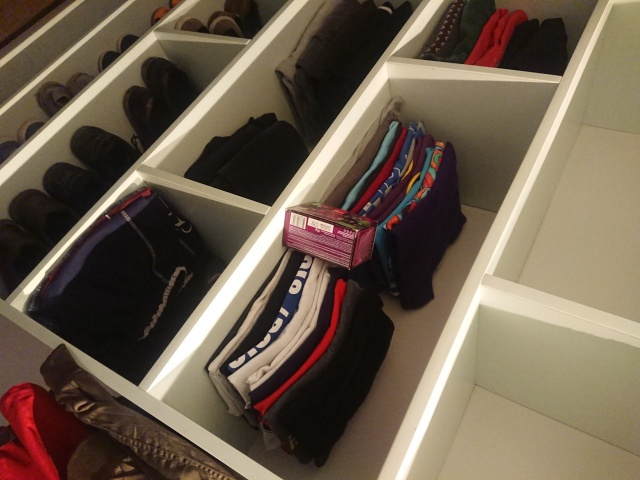Franck Black Currant Tea 60g: (280, 199, 380, 271)
